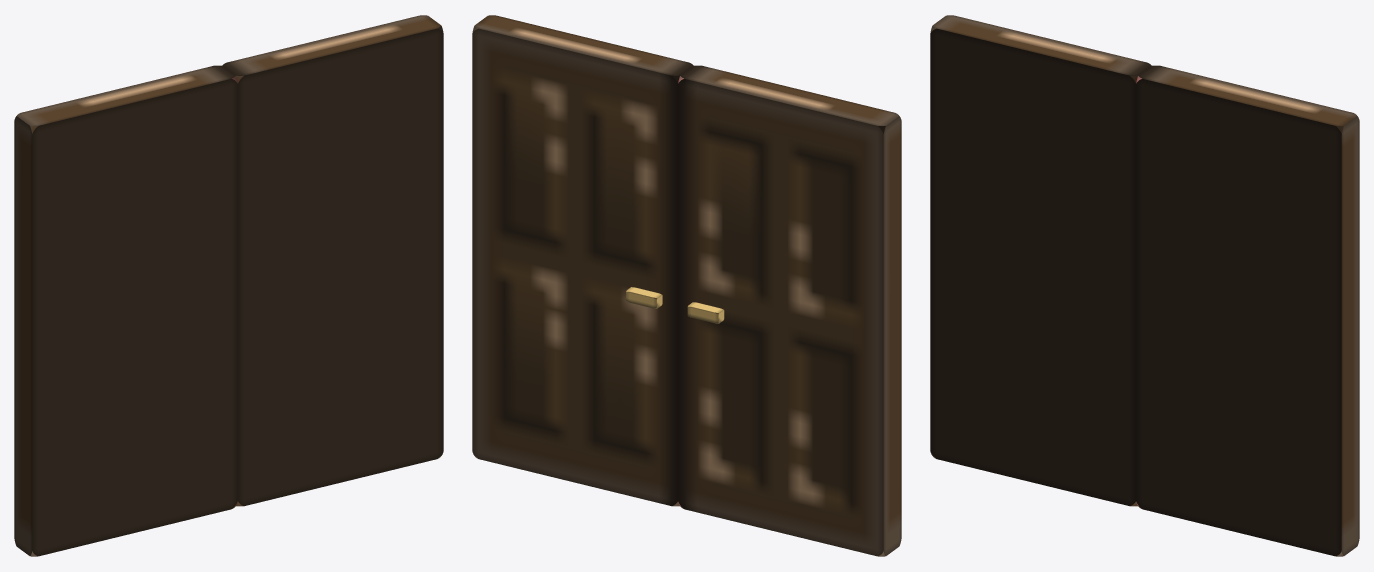
Rendered from Door_2.fbx.
3 renders of one model, left to right at view 1: azimuth 30°, elevation 25°; view 2: azimuth 150°, elevation 25°; view 3: azimuth 330°, elevation 25°, orthographic.
Parts seen in each view (by area): view 1: cuboid_1, cuboid; view 2: cuboid_1, cuboid, cuboid_3, cuboid_2; view 3: cuboid, cuboid_1.
Part boxes in pixels (x1,y1,x2,y2): cuboid_1: (14, 65, 237, 556); cuboid: (222, 15, 443, 506); cuboid_1: (678, 65, 901, 556); cuboid: (472, 15, 693, 506); cuboid_3: (687, 302, 724, 323); cuboid_2: (626, 287, 662, 308); cuboid: (1136, 65, 1359, 556); cuboid_1: (930, 15, 1151, 506).
Bounding box in the file's own units: 50 × 50 × 5.
Materials: 1 (1 with a texture image).
